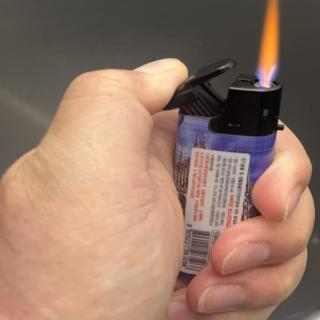fire: (254, 0, 281, 82)
